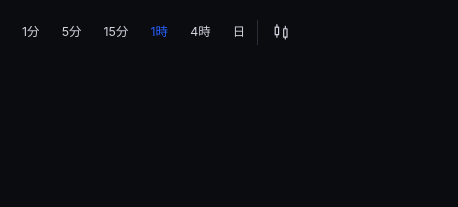
Scenario: 圖表上換畫法 › 挑一種就交出去，選單收起來
What coordinates should you click on to do the following:
click the button with test id "drawing-menu-button"
I would click on:
 (281, 32)
Its box is [261,12,301,52].
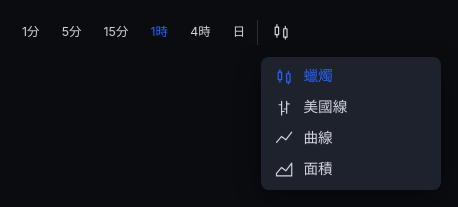
What coordinates should you click on to do the following:
click the menu item with test id "drawing-button" showing "面積"
I would click on:
 (351, 170)
Its box is [261,154,441,185].
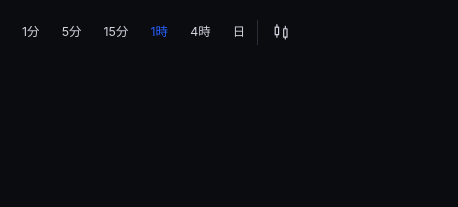
Now no menu items with test id "drawing-button" are shown
